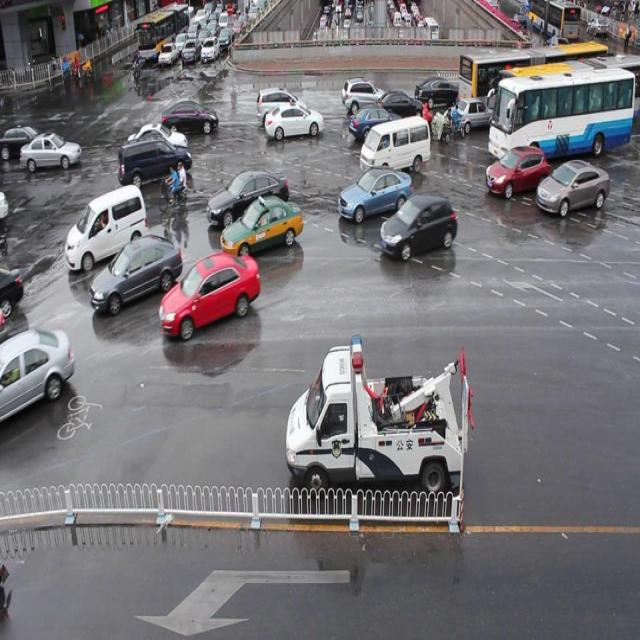bus: (286, 333, 472, 500)
car: (160, 250, 261, 337), (0, 325, 74, 425), (92, 236, 183, 312), (67, 189, 147, 268), (222, 200, 303, 256), (380, 196, 454, 256), (210, 171, 288, 227), (337, 166, 411, 220), (118, 136, 190, 188), (537, 160, 608, 212), (486, 146, 547, 196), (21, 135, 83, 173), (127, 122, 187, 160), (266, 102, 322, 141), (161, 100, 218, 135), (349, 104, 400, 143), (342, 76, 388, 115), (376, 87, 424, 123), (257, 86, 306, 121), (414, 76, 464, 108), (452, 98, 492, 132), (1, 260, 23, 320)
truck: (360, 116, 430, 176)
van: (487, 71, 640, 155), (497, 57, 640, 135), (459, 44, 607, 108)
